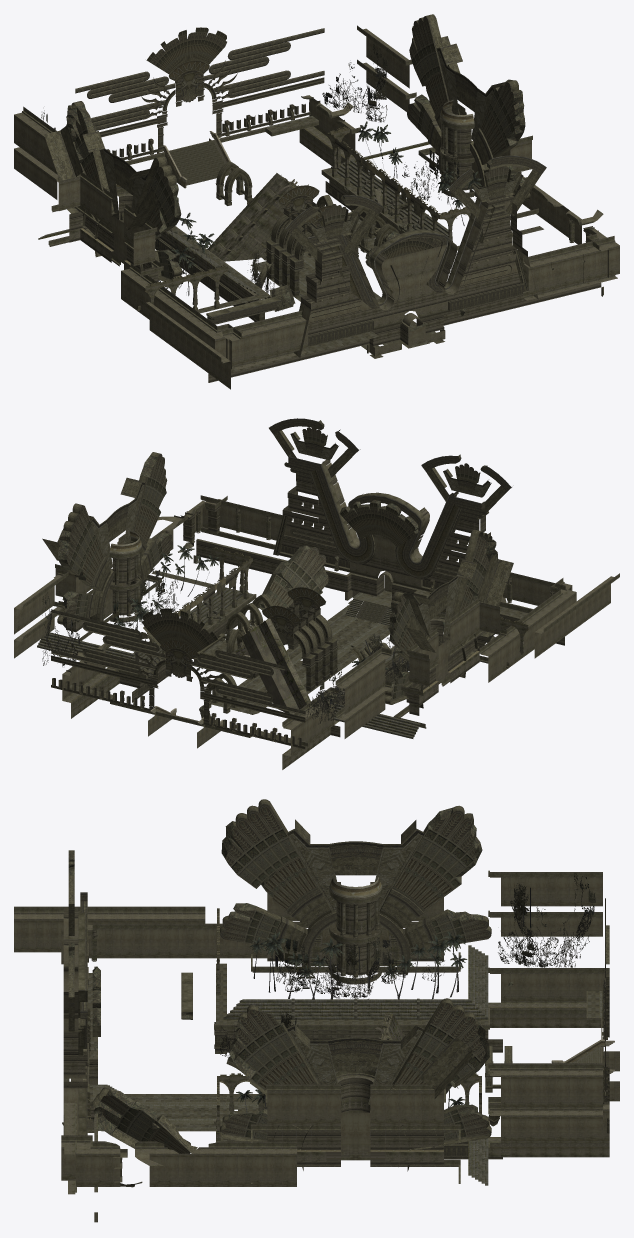
Rendered from map1.fbx.
The picture shows the model from 3 angles, top to bottom: view 1: azimuth 30°, elevation 25°; view 2: azimuth 150°, elevation 25°; view 3: azimuth 270°, elevation 25°; orthographic projection. The views are drawn at different scales.
Visible parts, largest first — view 1: 0005_hgcr_R_polySurfaceShape958, 0028_hgcr_B_polySurfaceShape380, 0030_hgcr_B_polySurfaceShape3, 0029_hgcr_B_polySurfaceShape491, 0000_honooShape, 0031_hgcr_B_polySurfaceShape4883, 0012_hgcr_G_polySurfaceShape10, 0004_hgcr_R_polySurfaceShape881, 0026_hgcr_B_polySurfaceShape4897, 0015_hgcr_G_polySurfaceShape136, 0032_hgcr_B_polySurfaceShape4890, 0009_hgcr_R_polySurfaceShape953 (+4 smaller); view 2: 0005_hgcr_R_polySurfaceShape958, 0028_hgcr_B_polySurfaceShape380, 0030_hgcr_B_polySurfaceShape3, 0029_hgcr_B_polySurfaceShape491, 0000_honooShape, 0012_hgcr_G_polySurfaceShape10, 0004_hgcr_R_polySurfaceShape881, 0025_hgcr_G_polySurfaceShape278, 0031_hgcr_B_polySurfaceShape4883, 0033_hgcr_B_polySurfaceShape412, 0009_hgcr_R_polySurfaceShape953, 0014_hgcr_G_polySurfaceShape134 (+2 smaller); view 3: 0005_hgcr_R_polySurfaceShape958, 0028_hgcr_B_polySurfaceShape380, 0030_hgcr_B_polySurfaceShape3, 0000_honooShape, 0012_hgcr_G_polySurfaceShape10, 0033_hgcr_B_polySurfaceShape412, 0029_hgcr_B_polySurfaceShape491, 0025_hgcr_G_polySurfaceShape278, 0032_hgcr_B_polySurfaceShape4890, 0015_hgcr_G_polySurfaceShape136, 0031_hgcr_B_polySurfaceShape4883.
Part boxes in pixels (x1,y1,x2,y2): 0005_hgcr_R_polySurfaceShape958: (44,14,598,352); 0028_hgcr_B_polySurfaceShape380: (48,99,619,314); 0030_hgcr_B_polySurfaceShape3: (14,25,416,389); 0029_hgcr_B_polySurfaceShape491: (294,201,538,357); 0000_honooShape: (41,44,481,311); 0031_hgcr_B_polySurfaceShape4883: (208,282,603,382); 0012_hgcr_G_polySurfaceShape10: (38,141,543,313); 0004_hgcr_R_polySurfaceShape881: (207,173,317,261); 0026_hgcr_B_polySurfaceShape4897: (169,140,231,185); 0015_hgcr_G_polySurfaceShape136: (231,116,444,372); 0032_hgcr_B_polySurfaceShape4890: (159,226,271,302); 0009_hgcr_R_polySurfaceShape953: (316,194,399,252); 0005_hgcr_R_polySurfaceShape958: (42,418,513,749); 0028_hgcr_B_polySurfaceShape380: (49,495,555,748); 0030_hgcr_B_polySurfaceShape3: (14,569,619,738); 0029_hgcr_B_polySurfaceShape491: (281,459,506,602); 0000_honooShape: (42,545,444,724); 0012_hgcr_G_polySurfaceShape10: (37,570,480,738); 0004_hgcr_R_polySurfaceShape881: (234,618,310,714); 0025_hgcr_G_polySurfaceShape278: (211,604,390,714); 0031_hgcr_B_polySurfaceShape4883: (193,539,564,645); 0033_hgcr_B_polySurfaceShape412: (282,687,339,769); 0009_hgcr_R_polySurfaceShape953: (194,594,273,658); 0014_hgcr_G_polySurfaceShape134: (345,588,391,625); 0005_hgcr_R_polySurfaceShape958: (68,799,609,1187); 0028_hgcr_B_polySurfaceShape380: (61,877,619,1194); 0030_hgcr_B_polySurfaceShape3: (14,870,609,1159); 0000_honooShape: (219,873,595,1112); 0012_hgcr_G_polySurfaceShape10: (216,945,488,1185); 0033_hgcr_B_polySurfaceShape412: (488,967,609,1027); 0029_hgcr_B_polySurfaceShape491: (63,906,89,1135); 0025_hgcr_G_polySurfaceShape278: (98,1094,259,1131); 0032_hgcr_B_polySurfaceShape4890: (214,1008,489,1040); 0015_hgcr_G_polySurfaceShape136: (87,973,602,1132); 0031_hgcr_B_polySurfaceShape4883: (71,966,97,1222).
Size of what is drawn, in the model's own units: 162 by 68.2 by 165.
